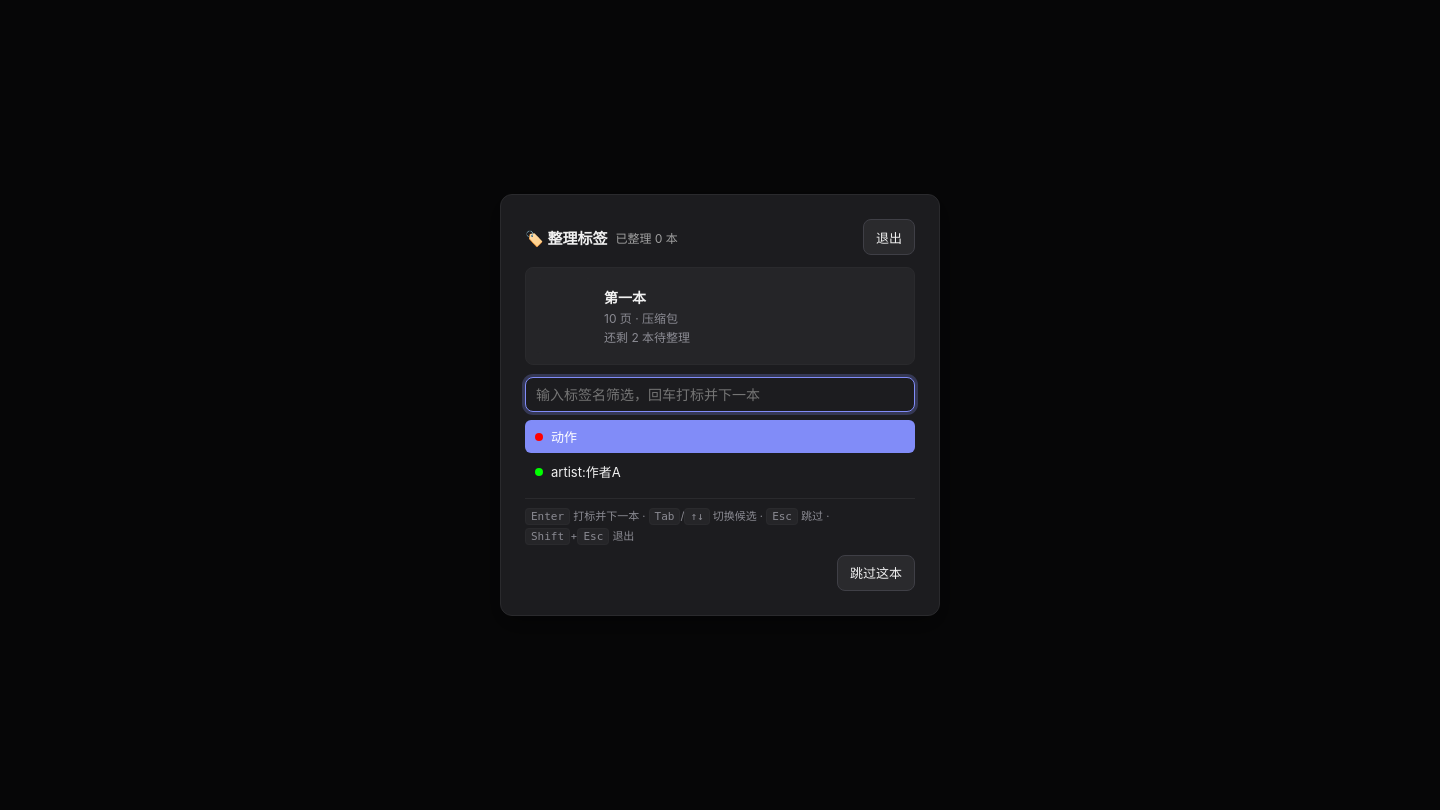
Test: TagTriage 整理模式 › 输入的标签名不存在时，回车即创建并打标（一次输入完成"新标签+打标"）
This screenshot has width=1440, height=810.
Check: the text "第一本" is shown, box [604,289,646,306]
Type "恐怖" into the field labelled "标签" at (720, 395), box [525,377,915,412]
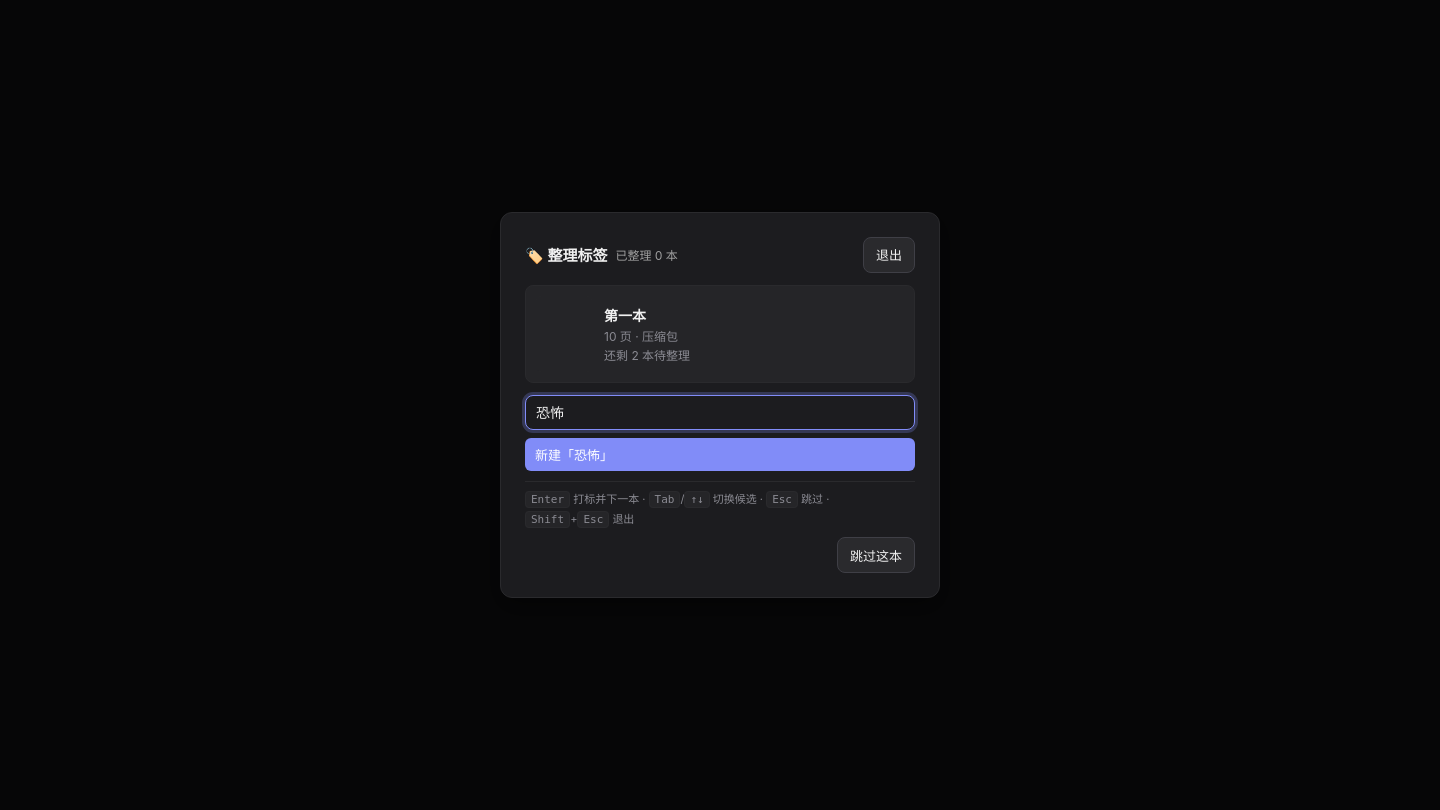
Check: the text "新建「恐怖」" is shown, box [535,445,613,464]
Press Enter in the field named "标签", box [525,395,915,430]
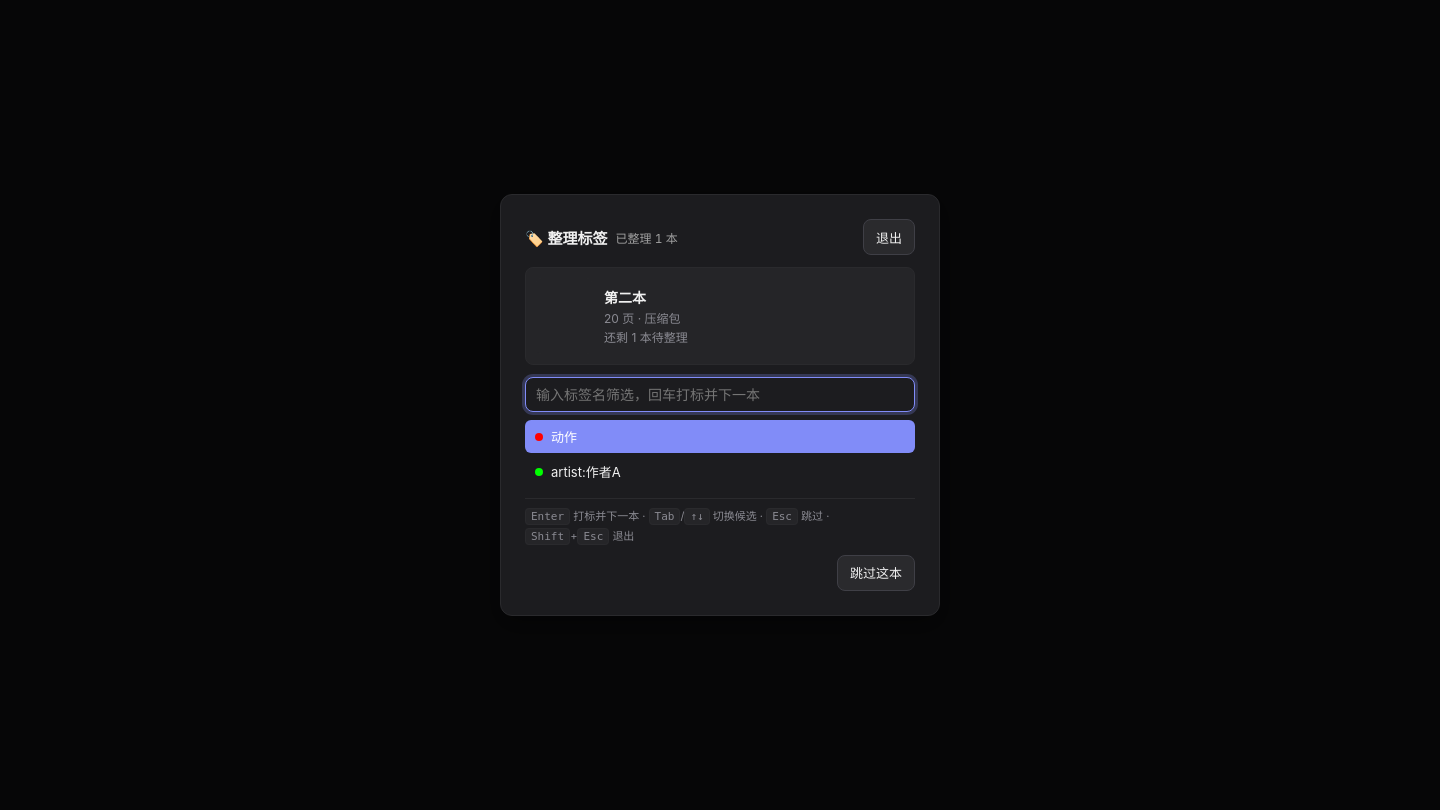
Check: the text "第二本" is shown, box [604,289,646,306]
